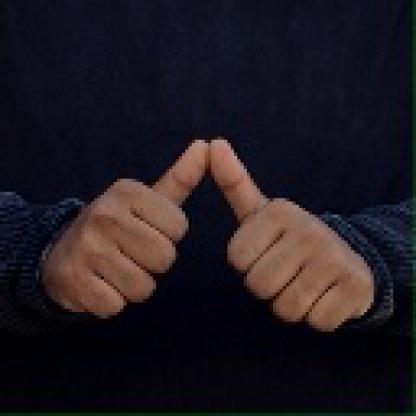A: (49, 133, 366, 331)
